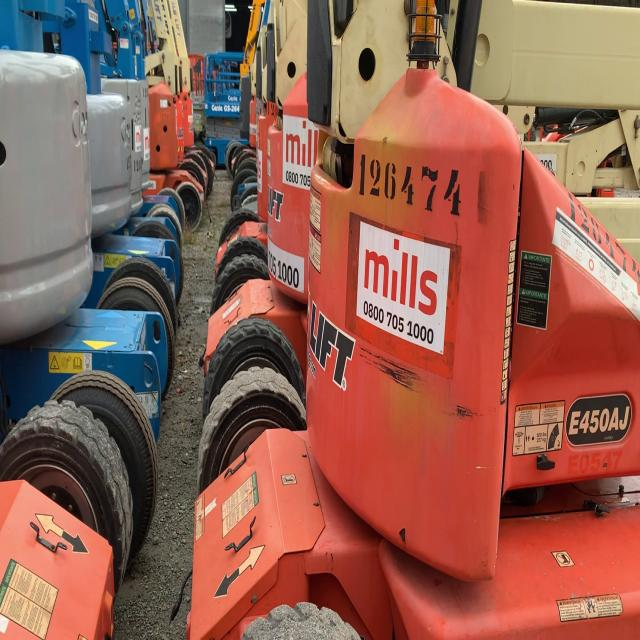Adesivos: (355, 219, 452, 357)
